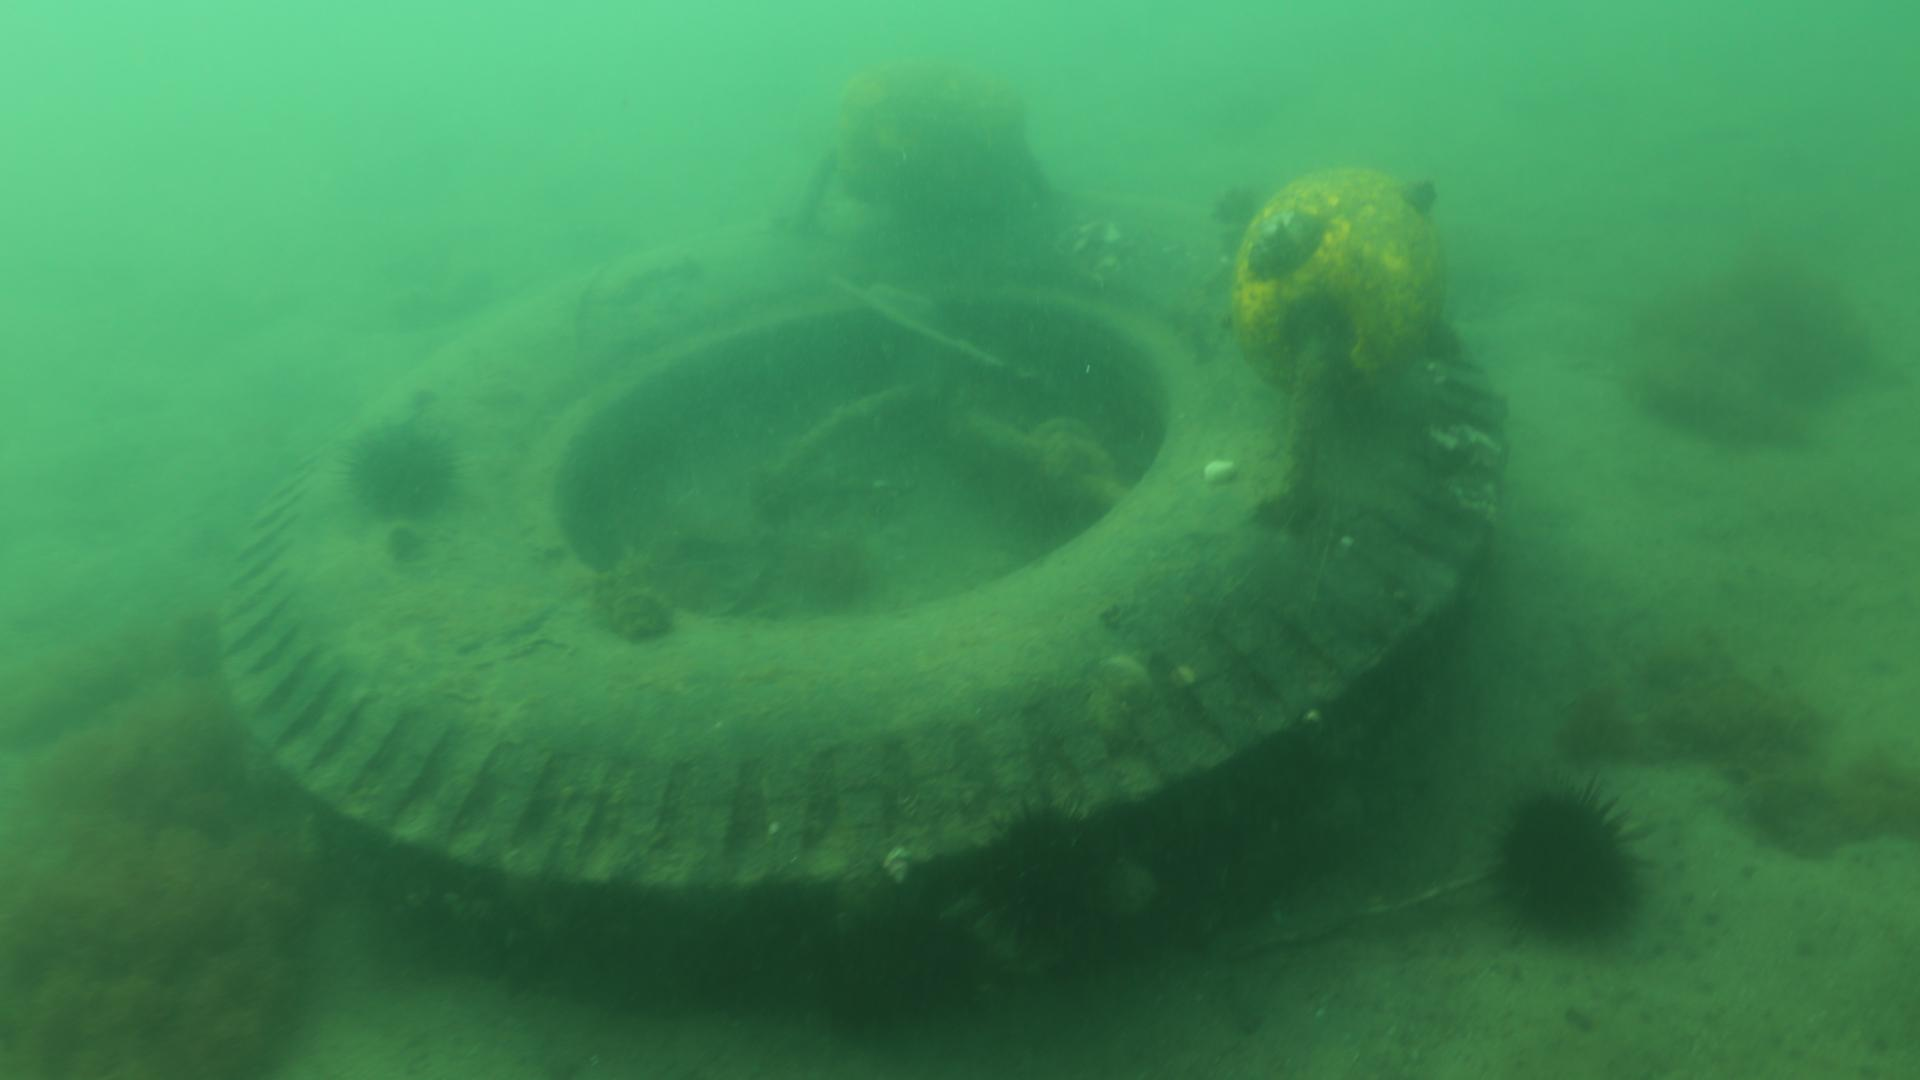tire: (223, 196, 1507, 1013)
